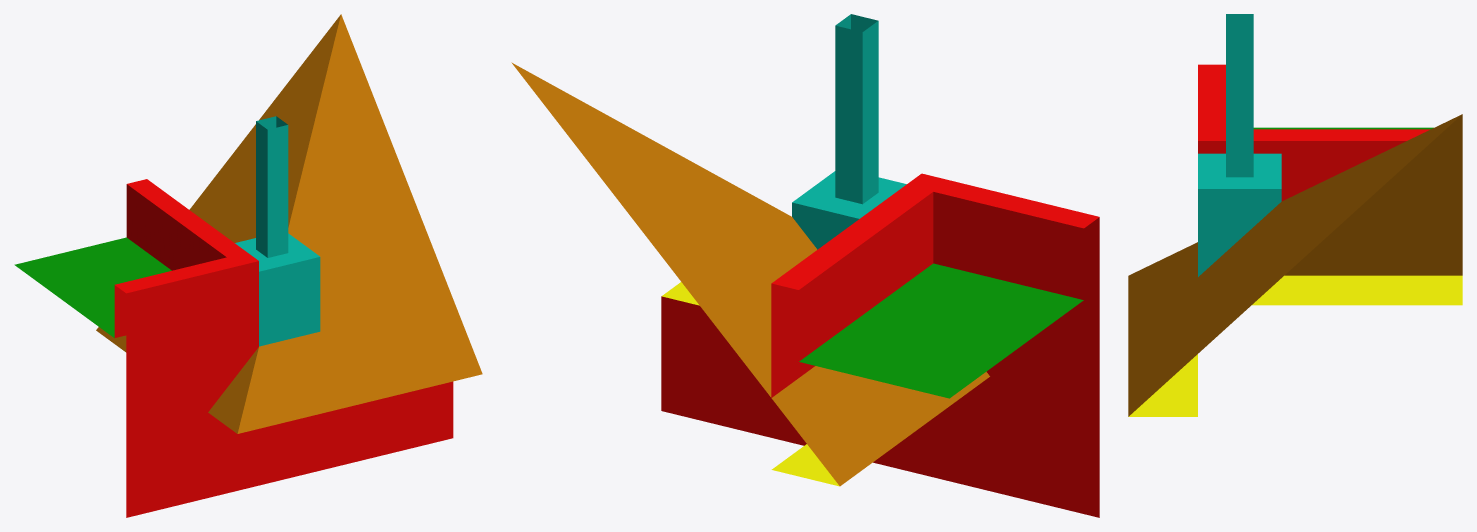
File: None_S_E_E_E_W_E_E_E_BigStrut.fbx
3 views of the same model, side by side, from view 1: azimuth 30°, elevation 25°; view 2: azimuth 150°, elevation 25°; view 3: azimuth 270°, elevation 25° (orthographic). The views are drawn at different scales.
Visible parts, largest first — view 1: None_S_E_E_E_W_E_E_E_BigStrut; view 2: None_S_E_E_E_W_E_E_E_BigStrut; view 3: None_S_E_E_E_W_E_E_E_BigStrut.
Part boxes in pixels (box(x1,y1,x2,y2)): None_S_E_E_E_W_E_E_E_BigStrut: box(14, 14, 482, 517); None_S_E_E_E_W_E_E_E_BigStrut: box(511, 14, 1099, 517); None_S_E_E_E_W_E_E_E_BigStrut: box(1128, 14, 1462, 416).
Size of the model in its own units: 100 by 100 by 75.
